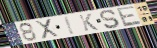8: (19, 22, 38, 43)
E: (115, 5, 143, 28)
I: (64, 15, 76, 36)
K: (78, 13, 100, 32)
S: (99, 9, 122, 29)
X: (34, 18, 61, 40)
